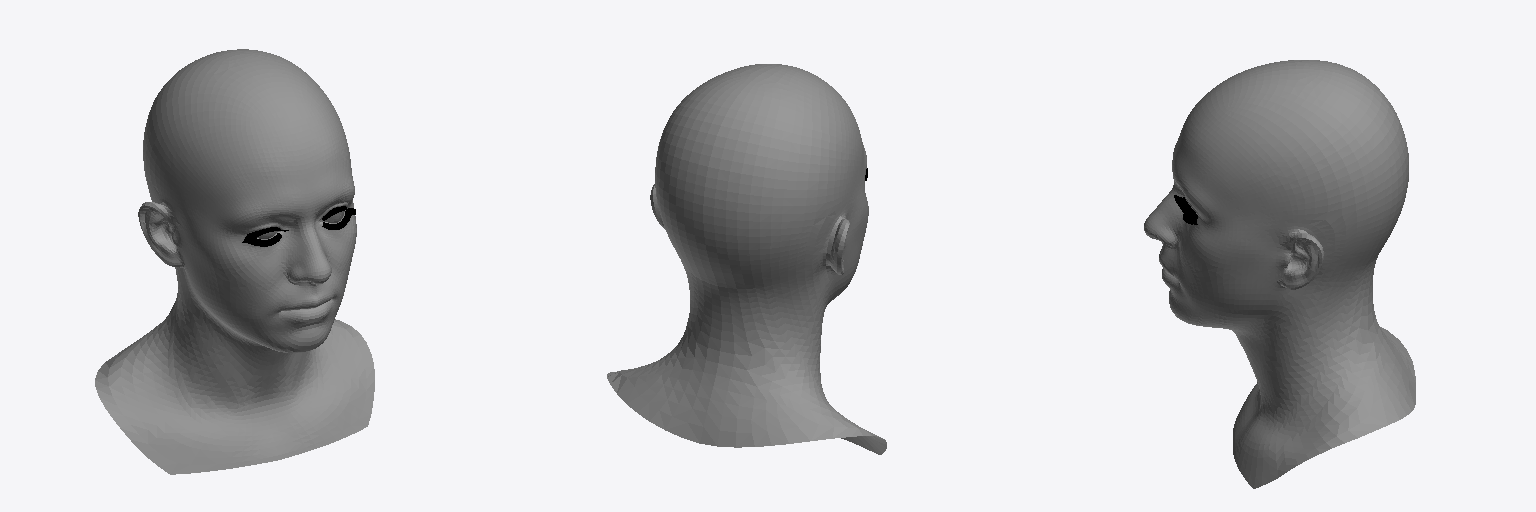
File: eyeWide_L.obj
3 views of the same model, side by side, from view 1: azimuth 30°, elevation 25°; view 2: azimuth 150°, elevation 25°; view 3: azimuth 270°, elevation 25° (orthographic).
Size of the model in its own units: 24.83 by 33.81 by 22.32.